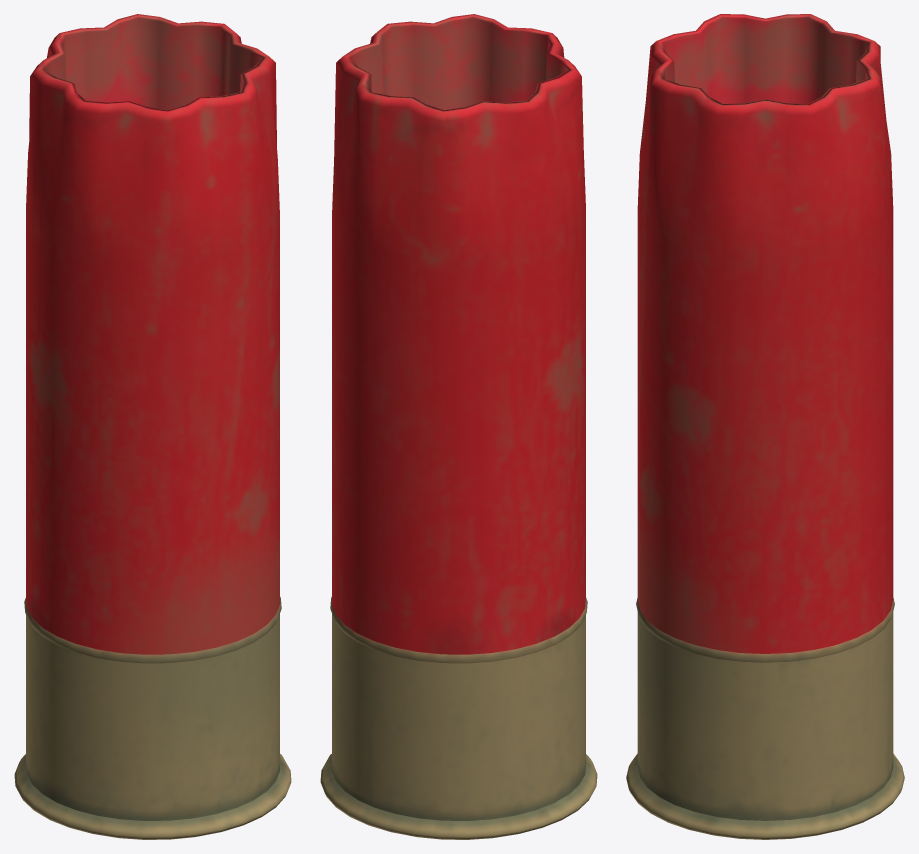
The model's file is round_12x70s.glb.
3 views of the same model, side by side, from view 1: azimuth 30°, elevation 25°; view 2: azimuth 150°, elevation 25°; view 3: azimuth 270°, elevation 25° (orthographic).
Parts seen in each view (by area): view 1: Round; view 2: Round; view 3: Round.
Part boxes in pixels (x1,y1,x2,y2): Round: [14, 14, 291, 839]; Round: [320, 14, 597, 839]; Round: [626, 14, 904, 839].
Bounding box in the file's own units: 0.0262 × 0.0753 × 0.0262.
1 material, 1 textured.
